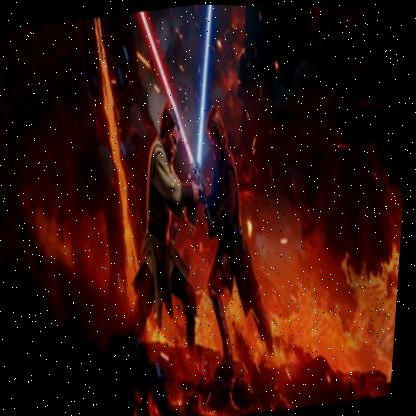lightsaber: (170, 4, 236, 166)
person: (174, 97, 300, 379), (111, 97, 223, 359)
sith_lightsaber: (125, 5, 206, 170)
